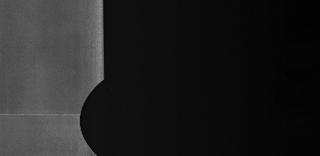welding line: (1, 108, 83, 119)
